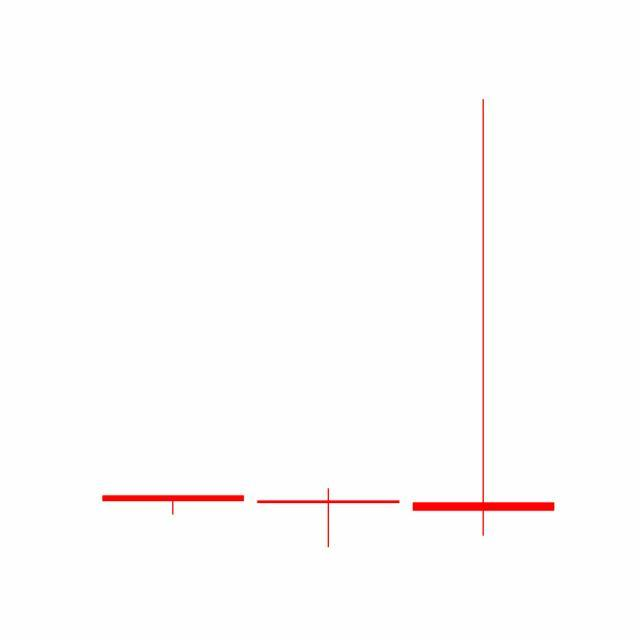Dragonfly Doji: (250, 488, 407, 550)
